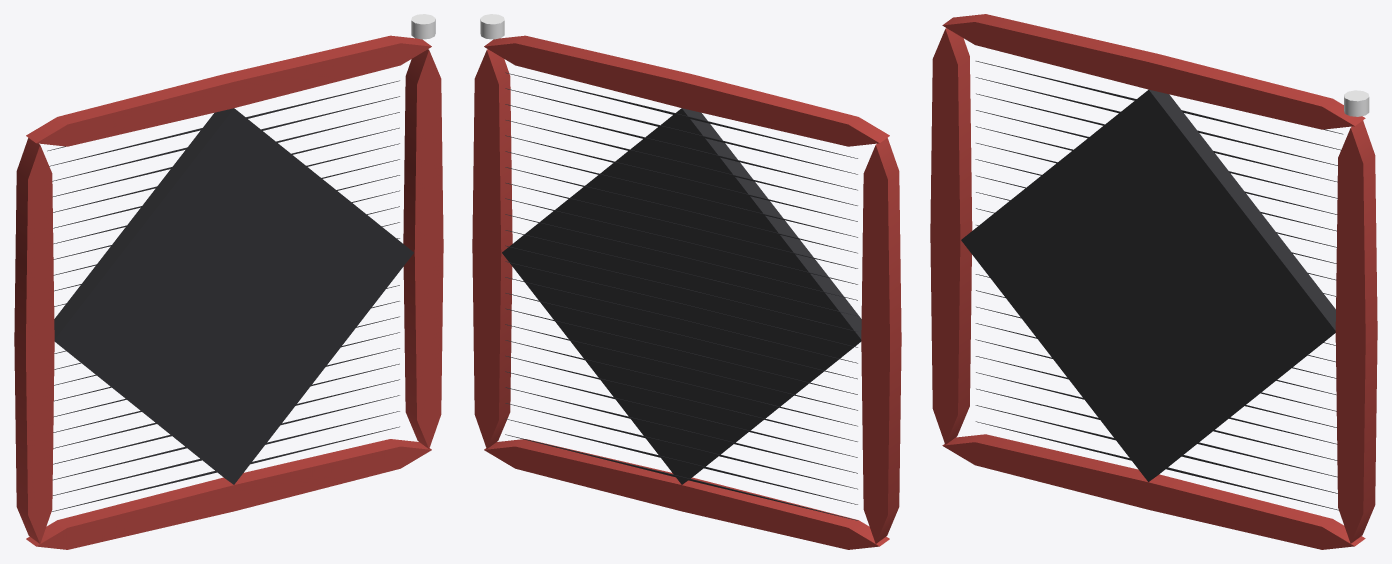
Rendered from core.glb.
3 views of the same model, side by side, from view 1: azimuth 30°, elevation 25°; view 2: azimuth 150°, elevation 25°; view 3: azimuth 330°, elevation 25° (orthographic). The views are drawn at different scales.
Visible parts, largest first — view 1: lod0; view 2: lod0; view 3: lod0.
Boxes of the visible parts, x1,y1,x2,y2 form: lod0: [14, 14, 443, 549]; lod0: [472, 14, 901, 549]; lod0: [930, 14, 1377, 549].
Size of what is drawn, in the model's own units: 1.16 by 1.17 by 0.06.
